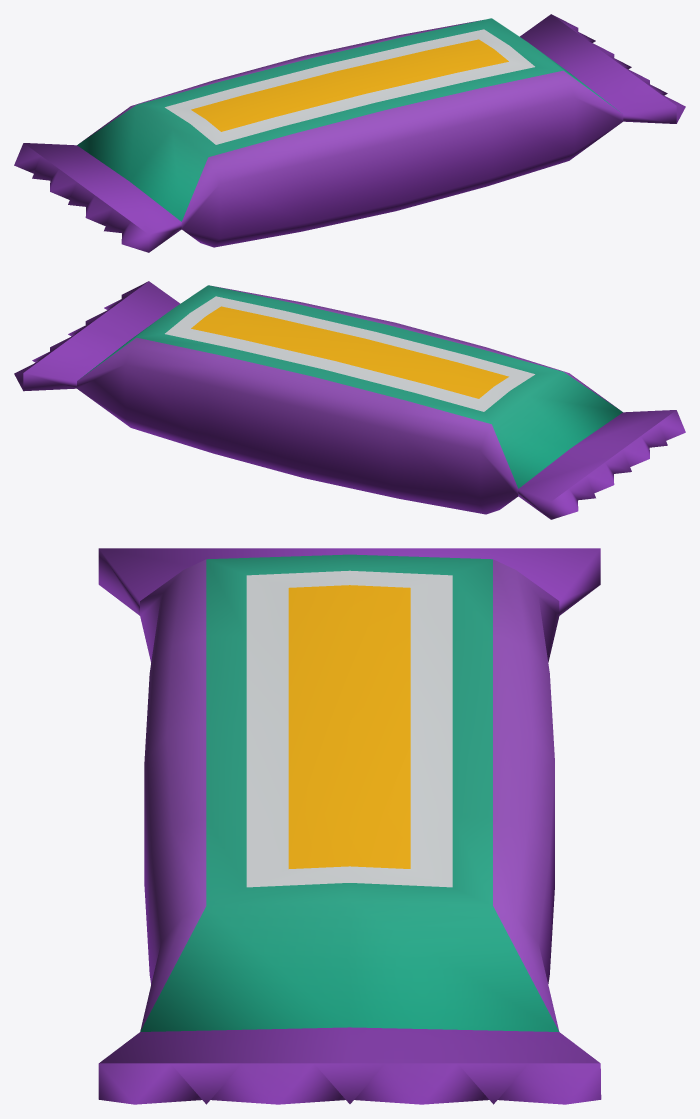
File: bar_003.fbx
3 renders of one model, top to bottom at view 1: azimuth 30°, elevation 25°; view 2: azimuth 150°, elevation 25°; view 3: azimuth 270°, elevation 25°, orthographic. The views are drawn at different scales.
Visible parts, largest first — view 1: bar_003; view 2: bar_003; view 3: bar_003.
Part boxes in pixels (bbox=[...]): bar_003: bbox=[14, 14, 685, 252]; bar_003: bbox=[14, 281, 685, 519]; bar_003: bbox=[98, 548, 601, 1104].
Size of the model in its own units: 10.67 by 4.11 by 1.84.
